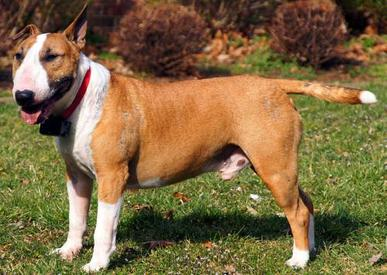bull_terrier: (11, 0, 378, 272)
